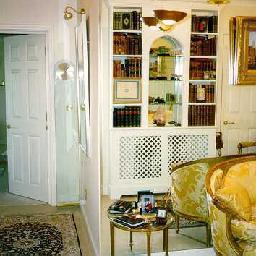Puerta: (4, 36, 49, 200)
